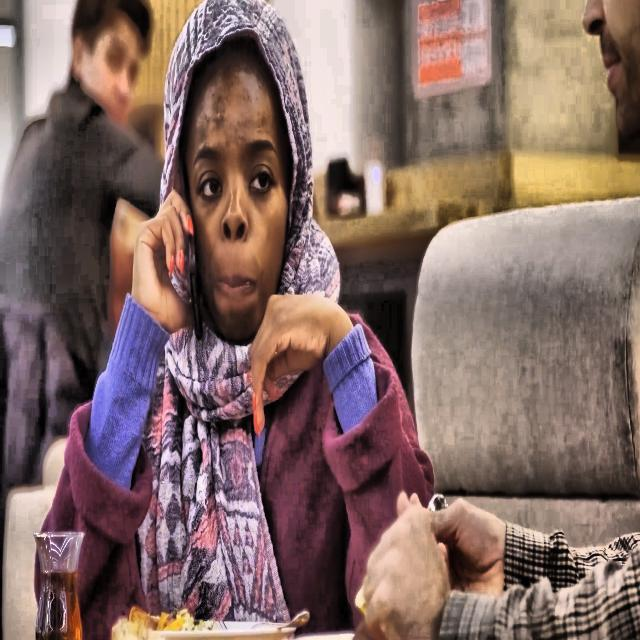Phone: (178, 147, 204, 343)
